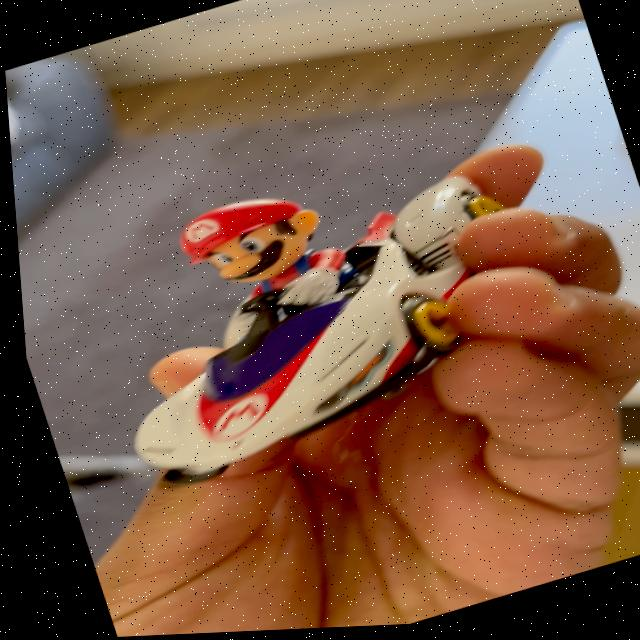mario: (15, 116, 577, 512)
